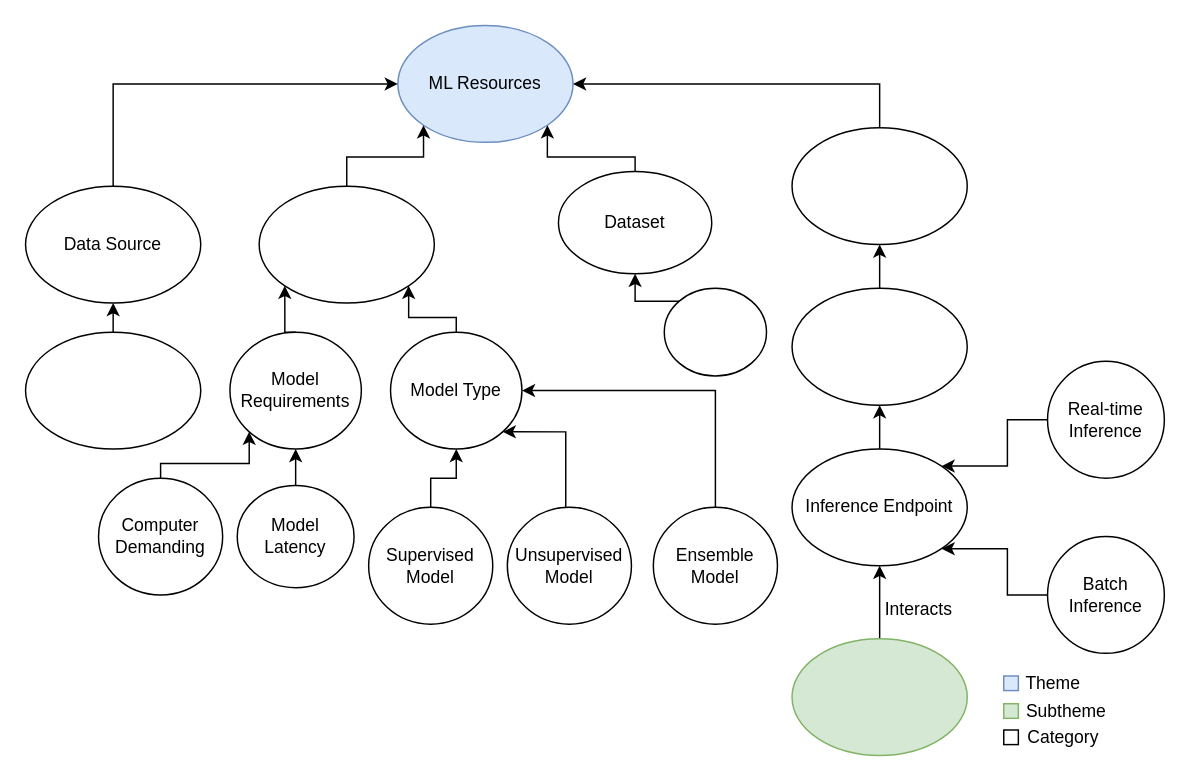
The diagram is 1190 pixels wide and 781 high, and some of its shapes have lost their labels. The shapes that lost their labels are listed below. From the top down, each one's centre as x and y in pixels, then its label:
(879,185): Prediction
(346,244): ML Model
(714,331): Instances
(879,346): Inference
(112,390): Data Reference
(879,696): REST API
